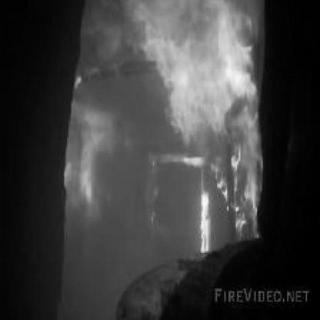Fire: (64, 4, 258, 240)
